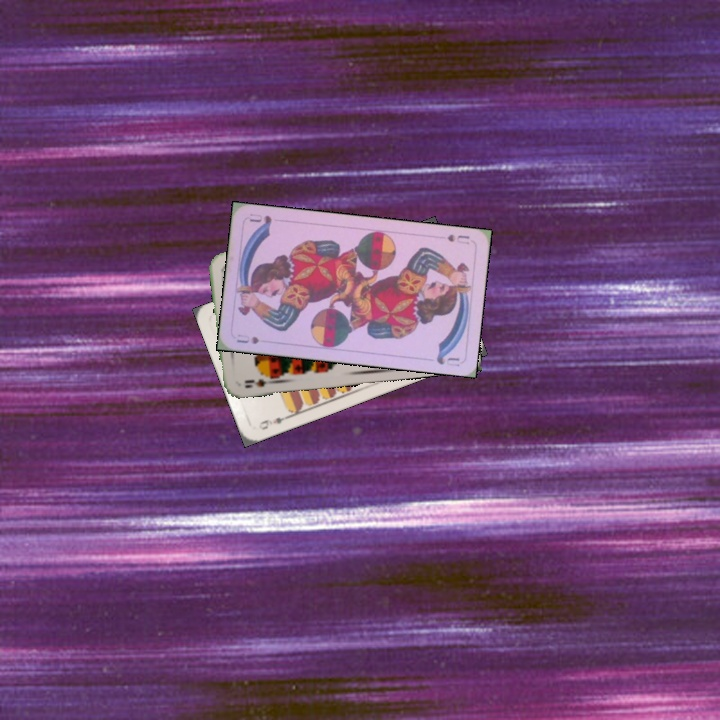E9: (254, 411, 292, 433)
S9: (241, 370, 278, 391)
SU: (233, 330, 262, 347), (443, 230, 472, 247)
